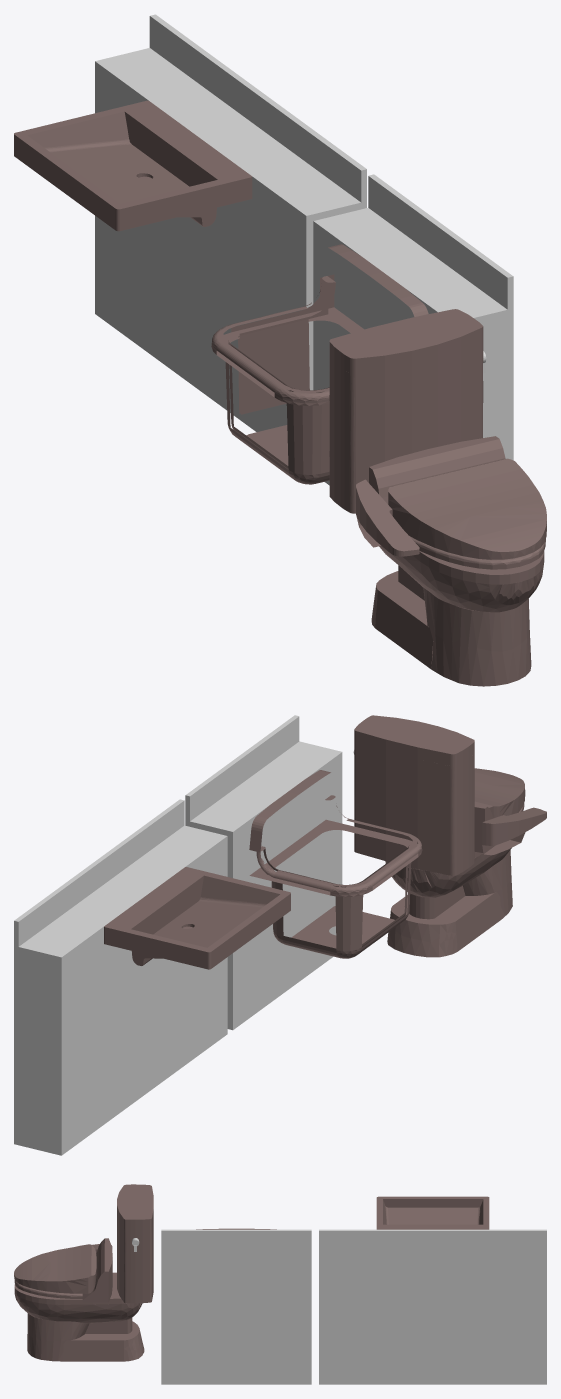
The picture shows the model from 3 angles, top to bottom: view 1: azimuth 30°, elevation 25°; view 2: azimuth 150°, elevation 25°; view 3: azimuth 270°, elevation 25°; orthographic projection. The views are drawn at different scales.
Bounding box in the file's own units: 0.7306 × 0.9011 × 2.84.
